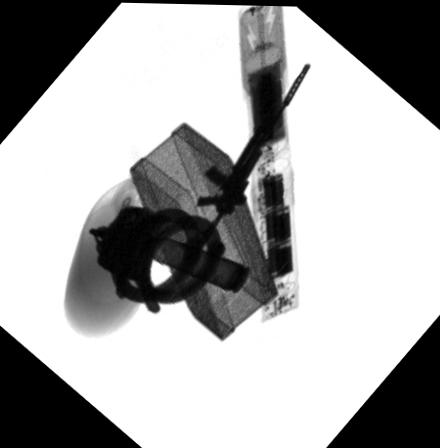Baton: (235, 4, 298, 322)
Bullet: (88, 225, 247, 293)
Gun: (193, 60, 311, 244)
HandCuffs: (89, 203, 225, 313)
